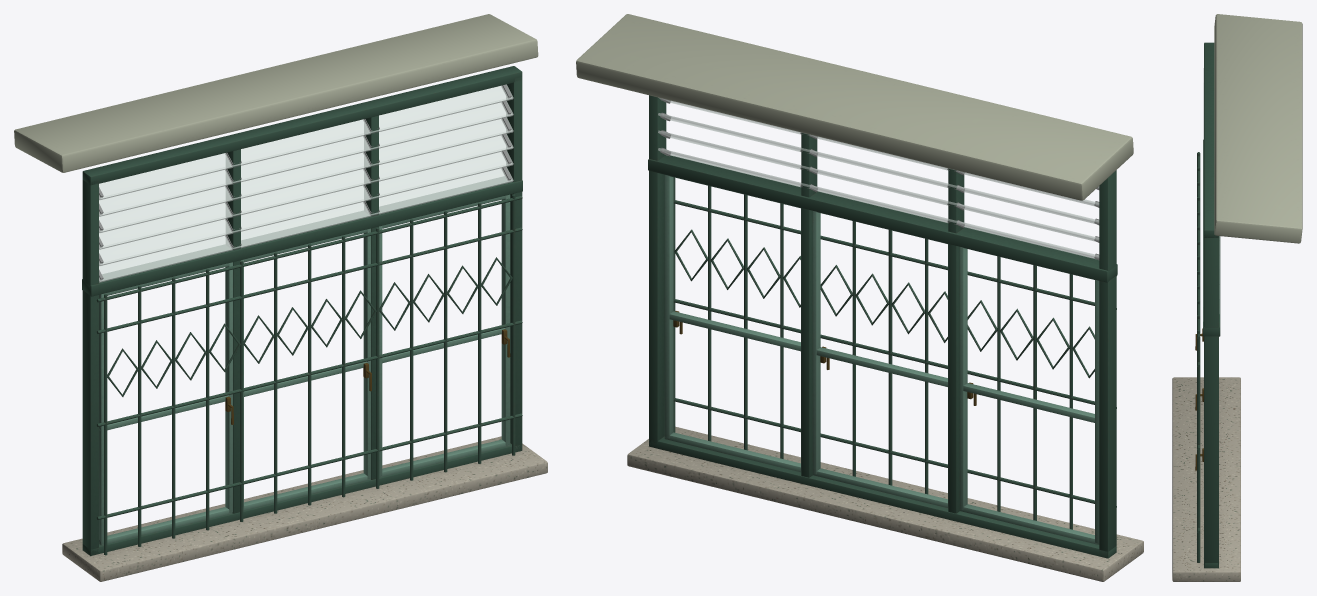
Rendered from CTCC_ENV_SteelWindow_Wide.fbx.
The picture shows the model from 3 angles, left to right: view 1: azimuth 30°, elevation 25°; view 2: azimuth 150°, elevation 25°; view 3: azimuth 270°, elevation 25°; orthographic projection. The views are drawn at different scales.
Parts seen in each view (by area): view 1: CTCC_ENV_SteelWindow_Wide_LOD0; view 2: CTCC_ENV_SteelWindow_Wide_LOD0; view 3: CTCC_ENV_SteelWindow_Wide_LOD0.
Part boxes in pixels (left/top/right/bottom): CTCC_ENV_SteelWindow_Wide_LOD0: left=14, top=14, right=547, bottom=581; CTCC_ENV_SteelWindow_Wide_LOD0: left=576, top=14, right=1143, bottom=581; CTCC_ENV_SteelWindow_Wide_LOD0: left=1172, top=14, right=1302, bottom=581.
Size of what is drawn, in the model's own units: 2.36 by 1.95 by 0.6252.
